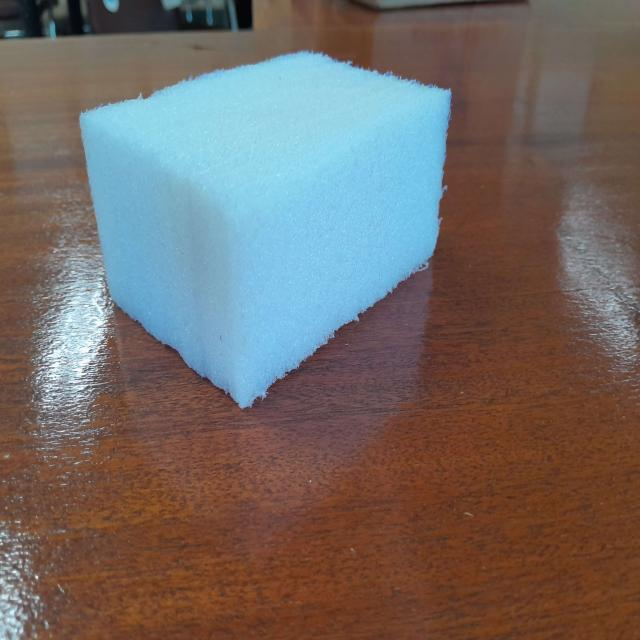trailer: (76, 39, 463, 412)
